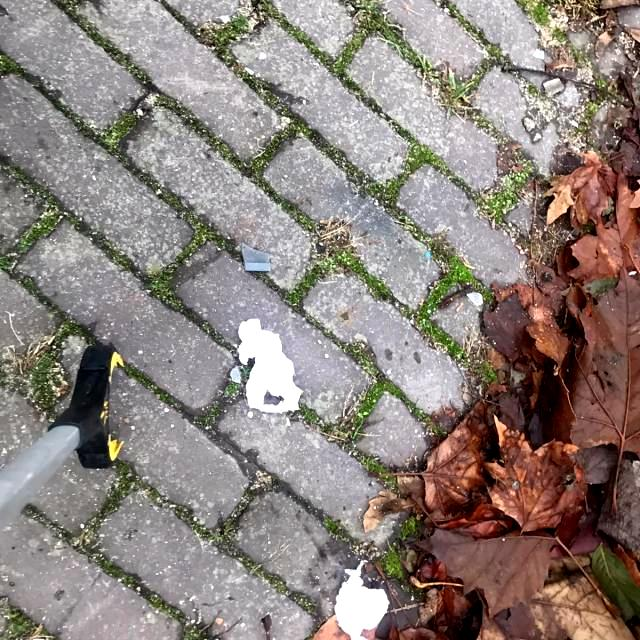Paper: (235, 318, 305, 414), (332, 560, 390, 640)
